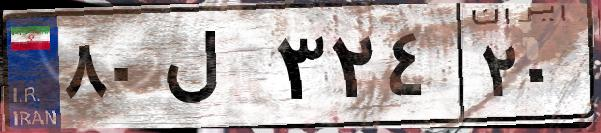0: (525, 38, 570, 115), (110, 28, 158, 98)
2: (330, 28, 385, 110), (475, 38, 525, 113)
3: (270, 28, 330, 110)
4: (385, 28, 445, 110)
8: (57, 26, 110, 100)
ل: (158, 20, 270, 120)
